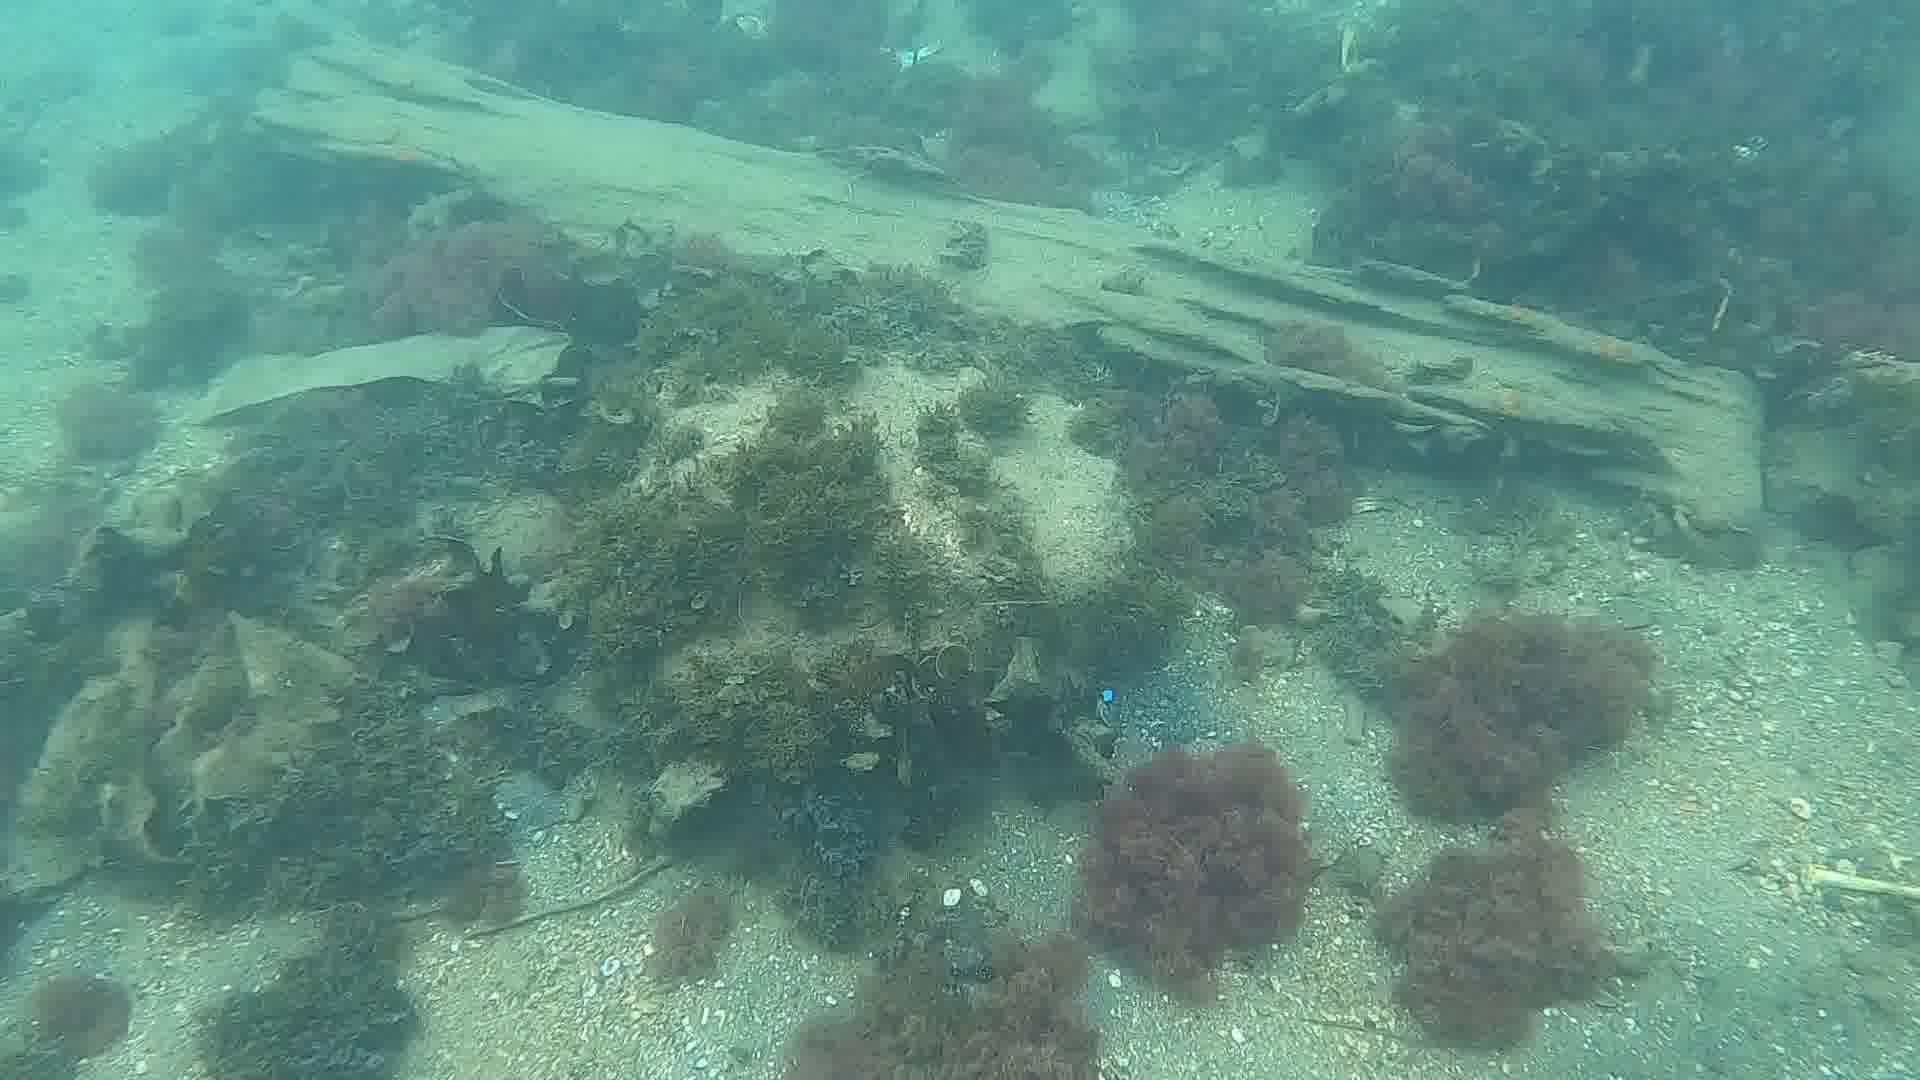wood: (237, 40, 1764, 571)
